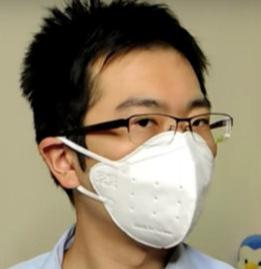OK: (90, 79, 217, 246)
